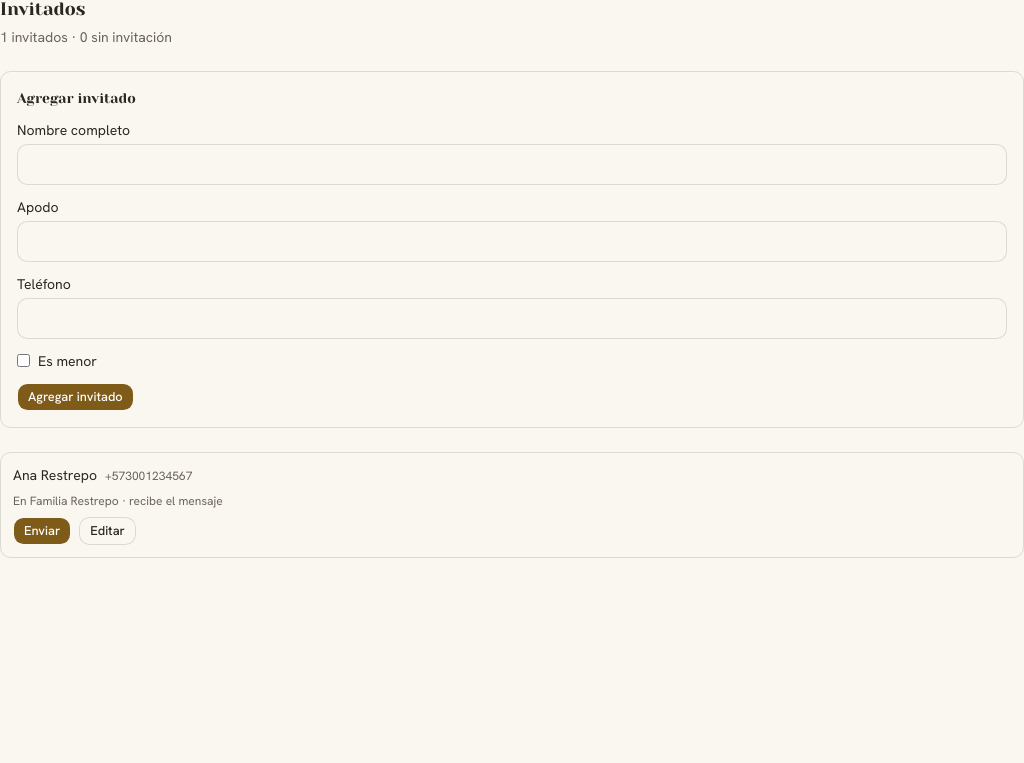
Test: GuestDirectory › warns that a placed guest also leaves their invitation
Click the button "Editar" at coordinates (108, 530), box [79,516,136,544]
(page scrolled)
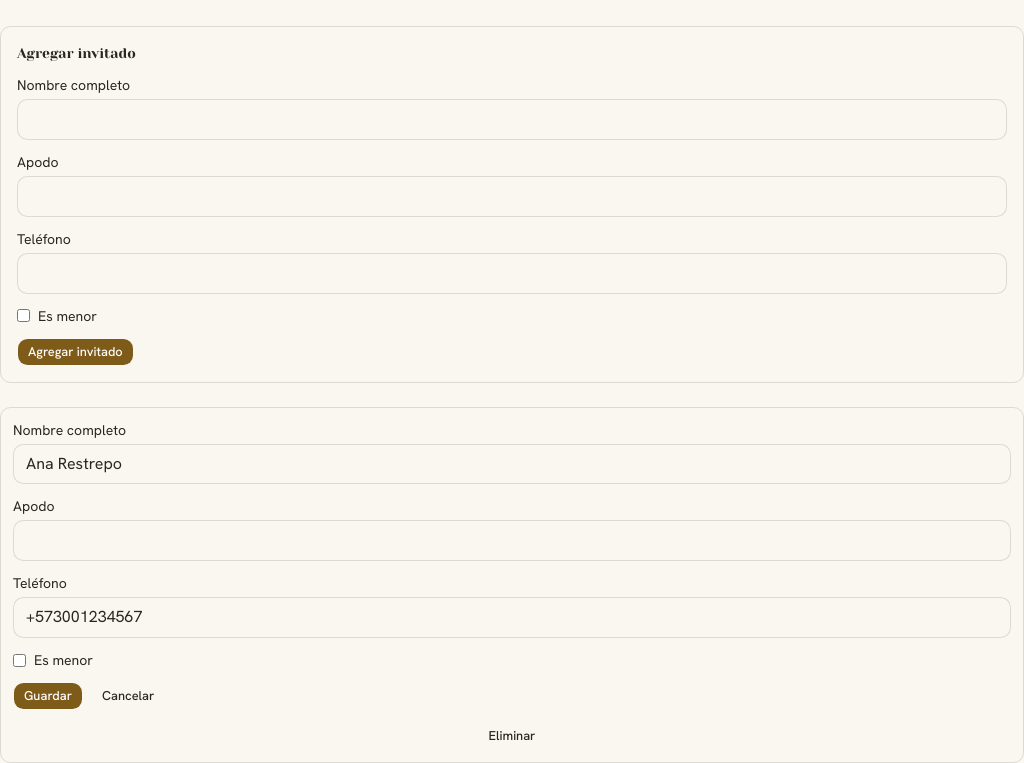
Click the button "Eliminar" at coordinates (512, 736), box [13,722,1011,750]
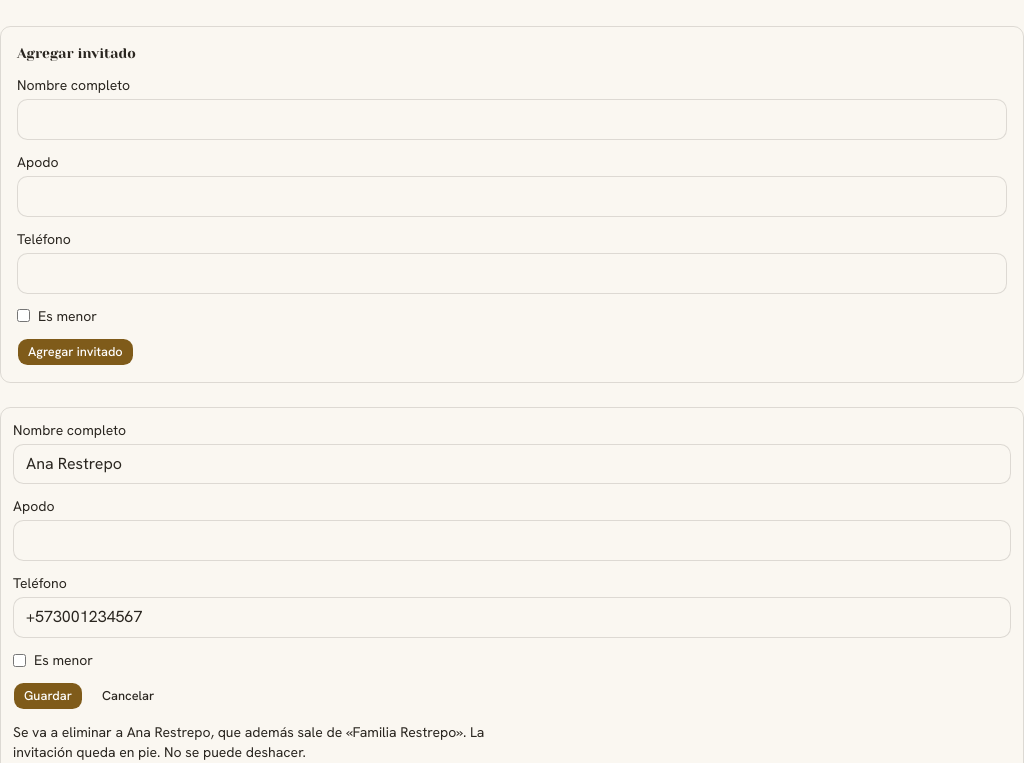
expect the text "Familia Restrepo" is shown: met, box [13,723,484,761]
